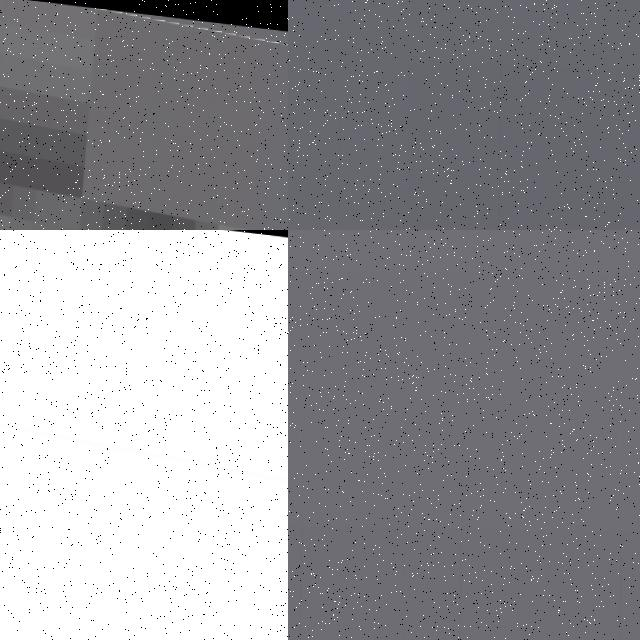0: (0, 0, 288, 230)
drone: (0, 230, 288, 640)
